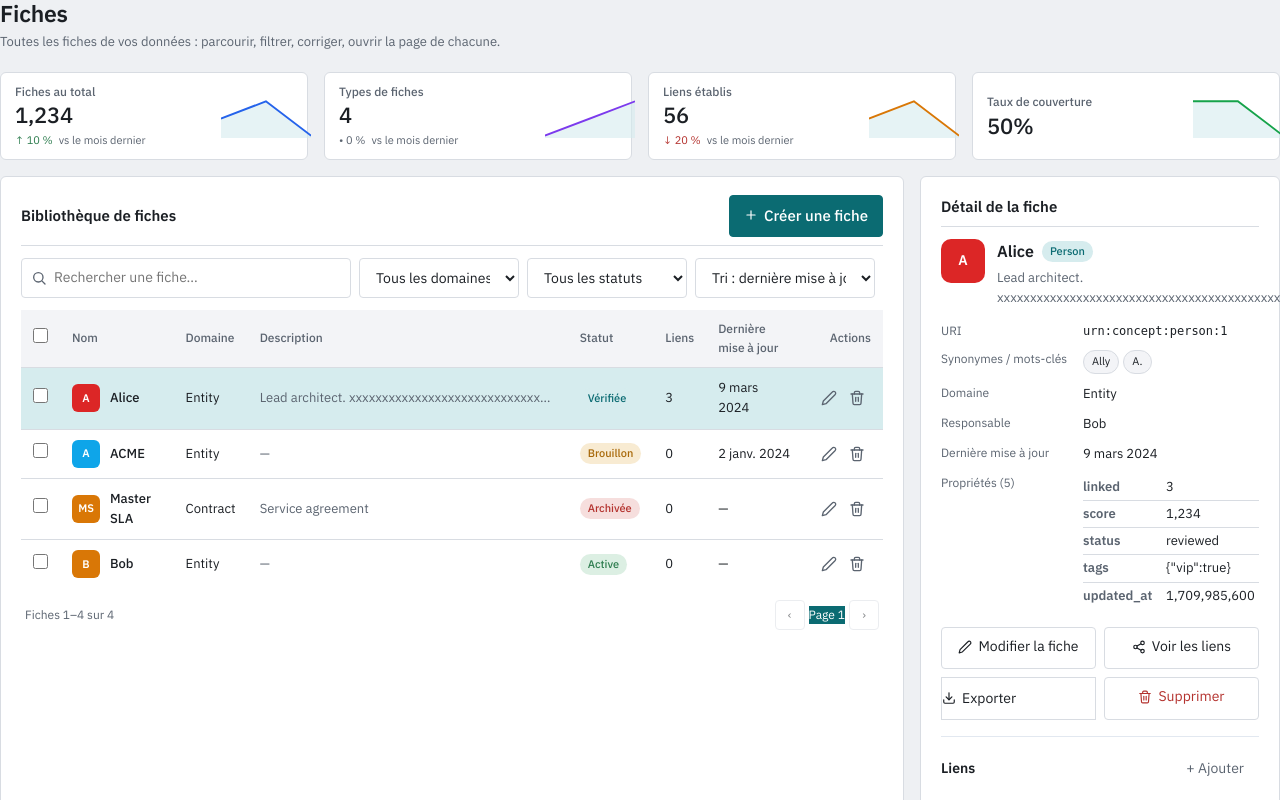
Scenario: Concepts page — selection and bulk delete › words a single deletion without relations in the singular
Expected: the text "Alice" is shown, [110,388,140,408]
Click the checkbox named "Sélectionner la fiche Bob": (40, 561) [33,554,48,568]
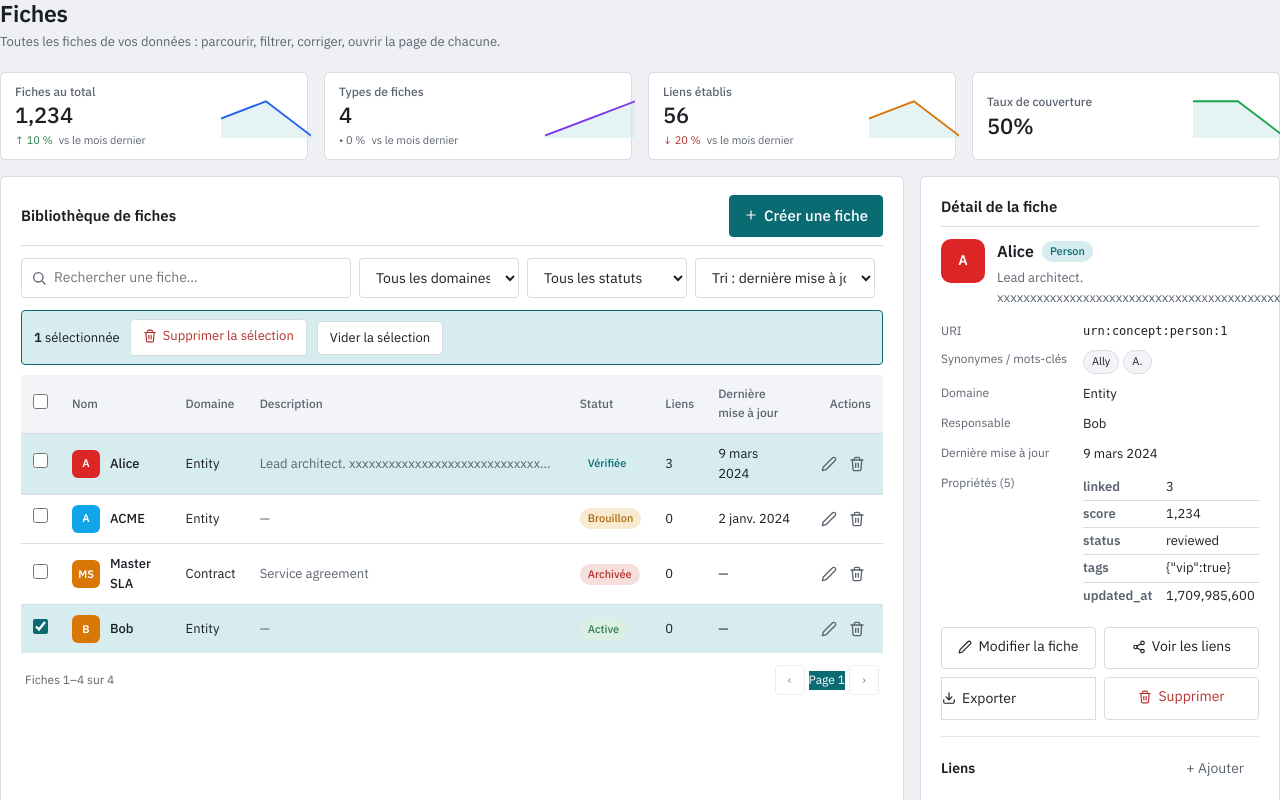
Click the button "Supprimer la sélection": (218, 338) [130,319,307,356]
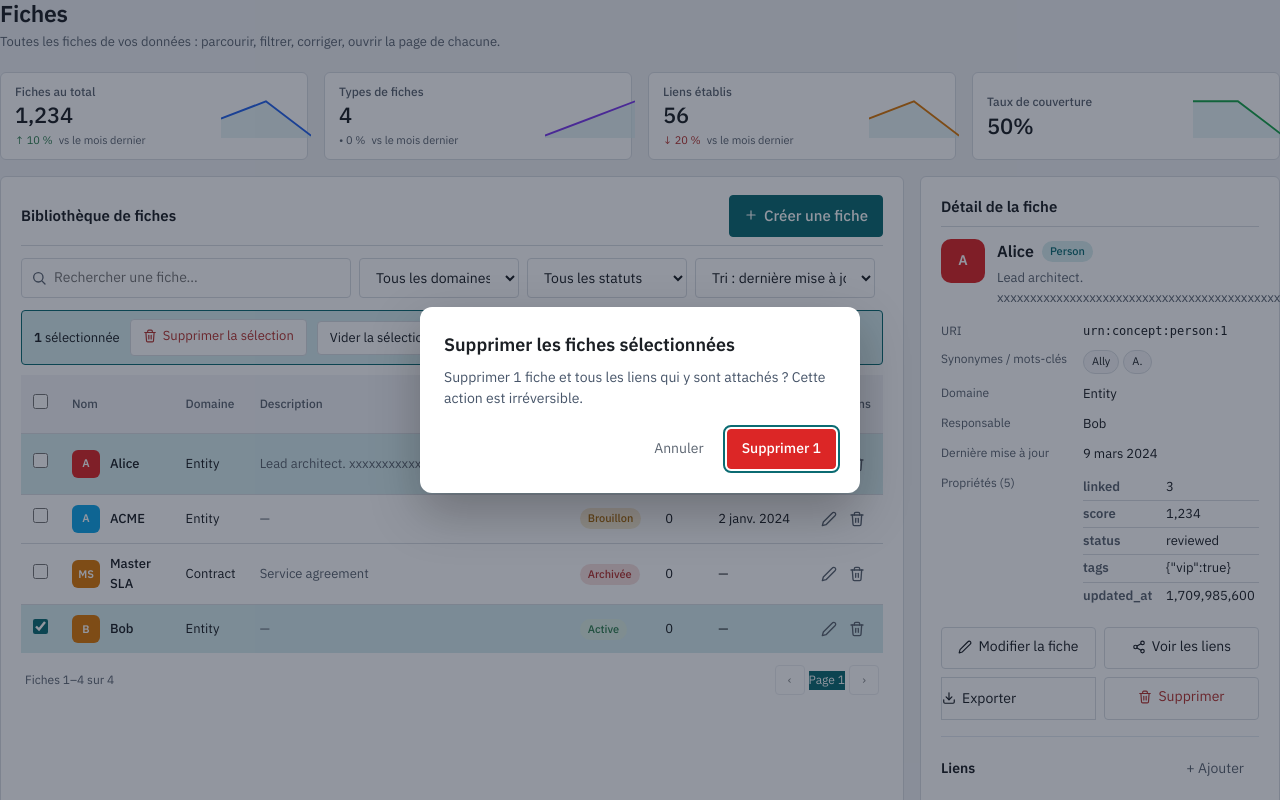
Result: the text "Supprimer 1 fiche et tous les liens" is shown at [444,368,826,407]
Click the button "Supprimer 1": (781, 449) [727,429,836,469]
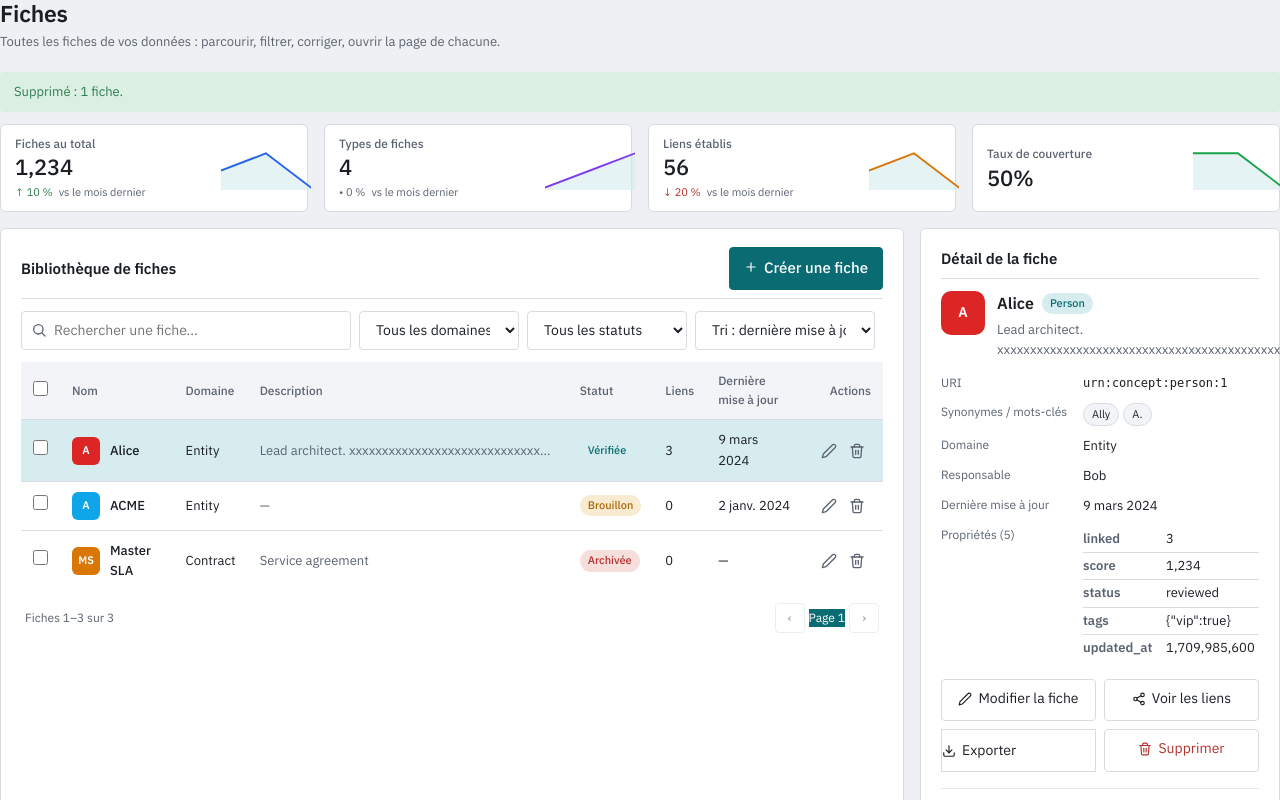
Result: the text "Supprimé : 1 fiche." is shown at [0,72,1279,112]
